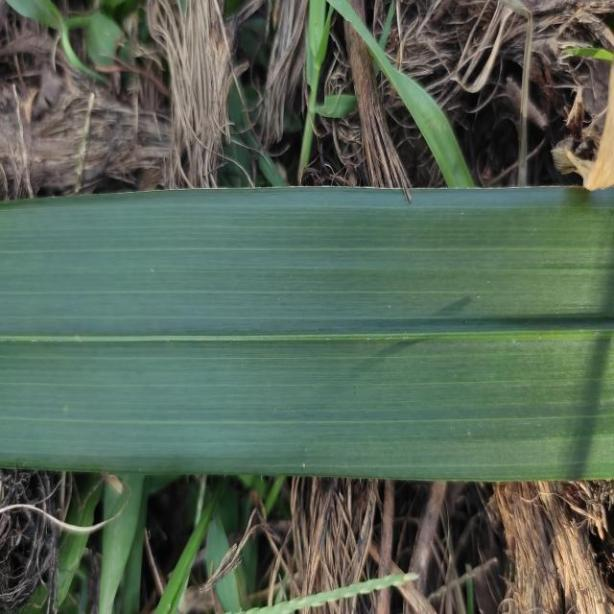Healthy: (0, 186, 614, 482)
